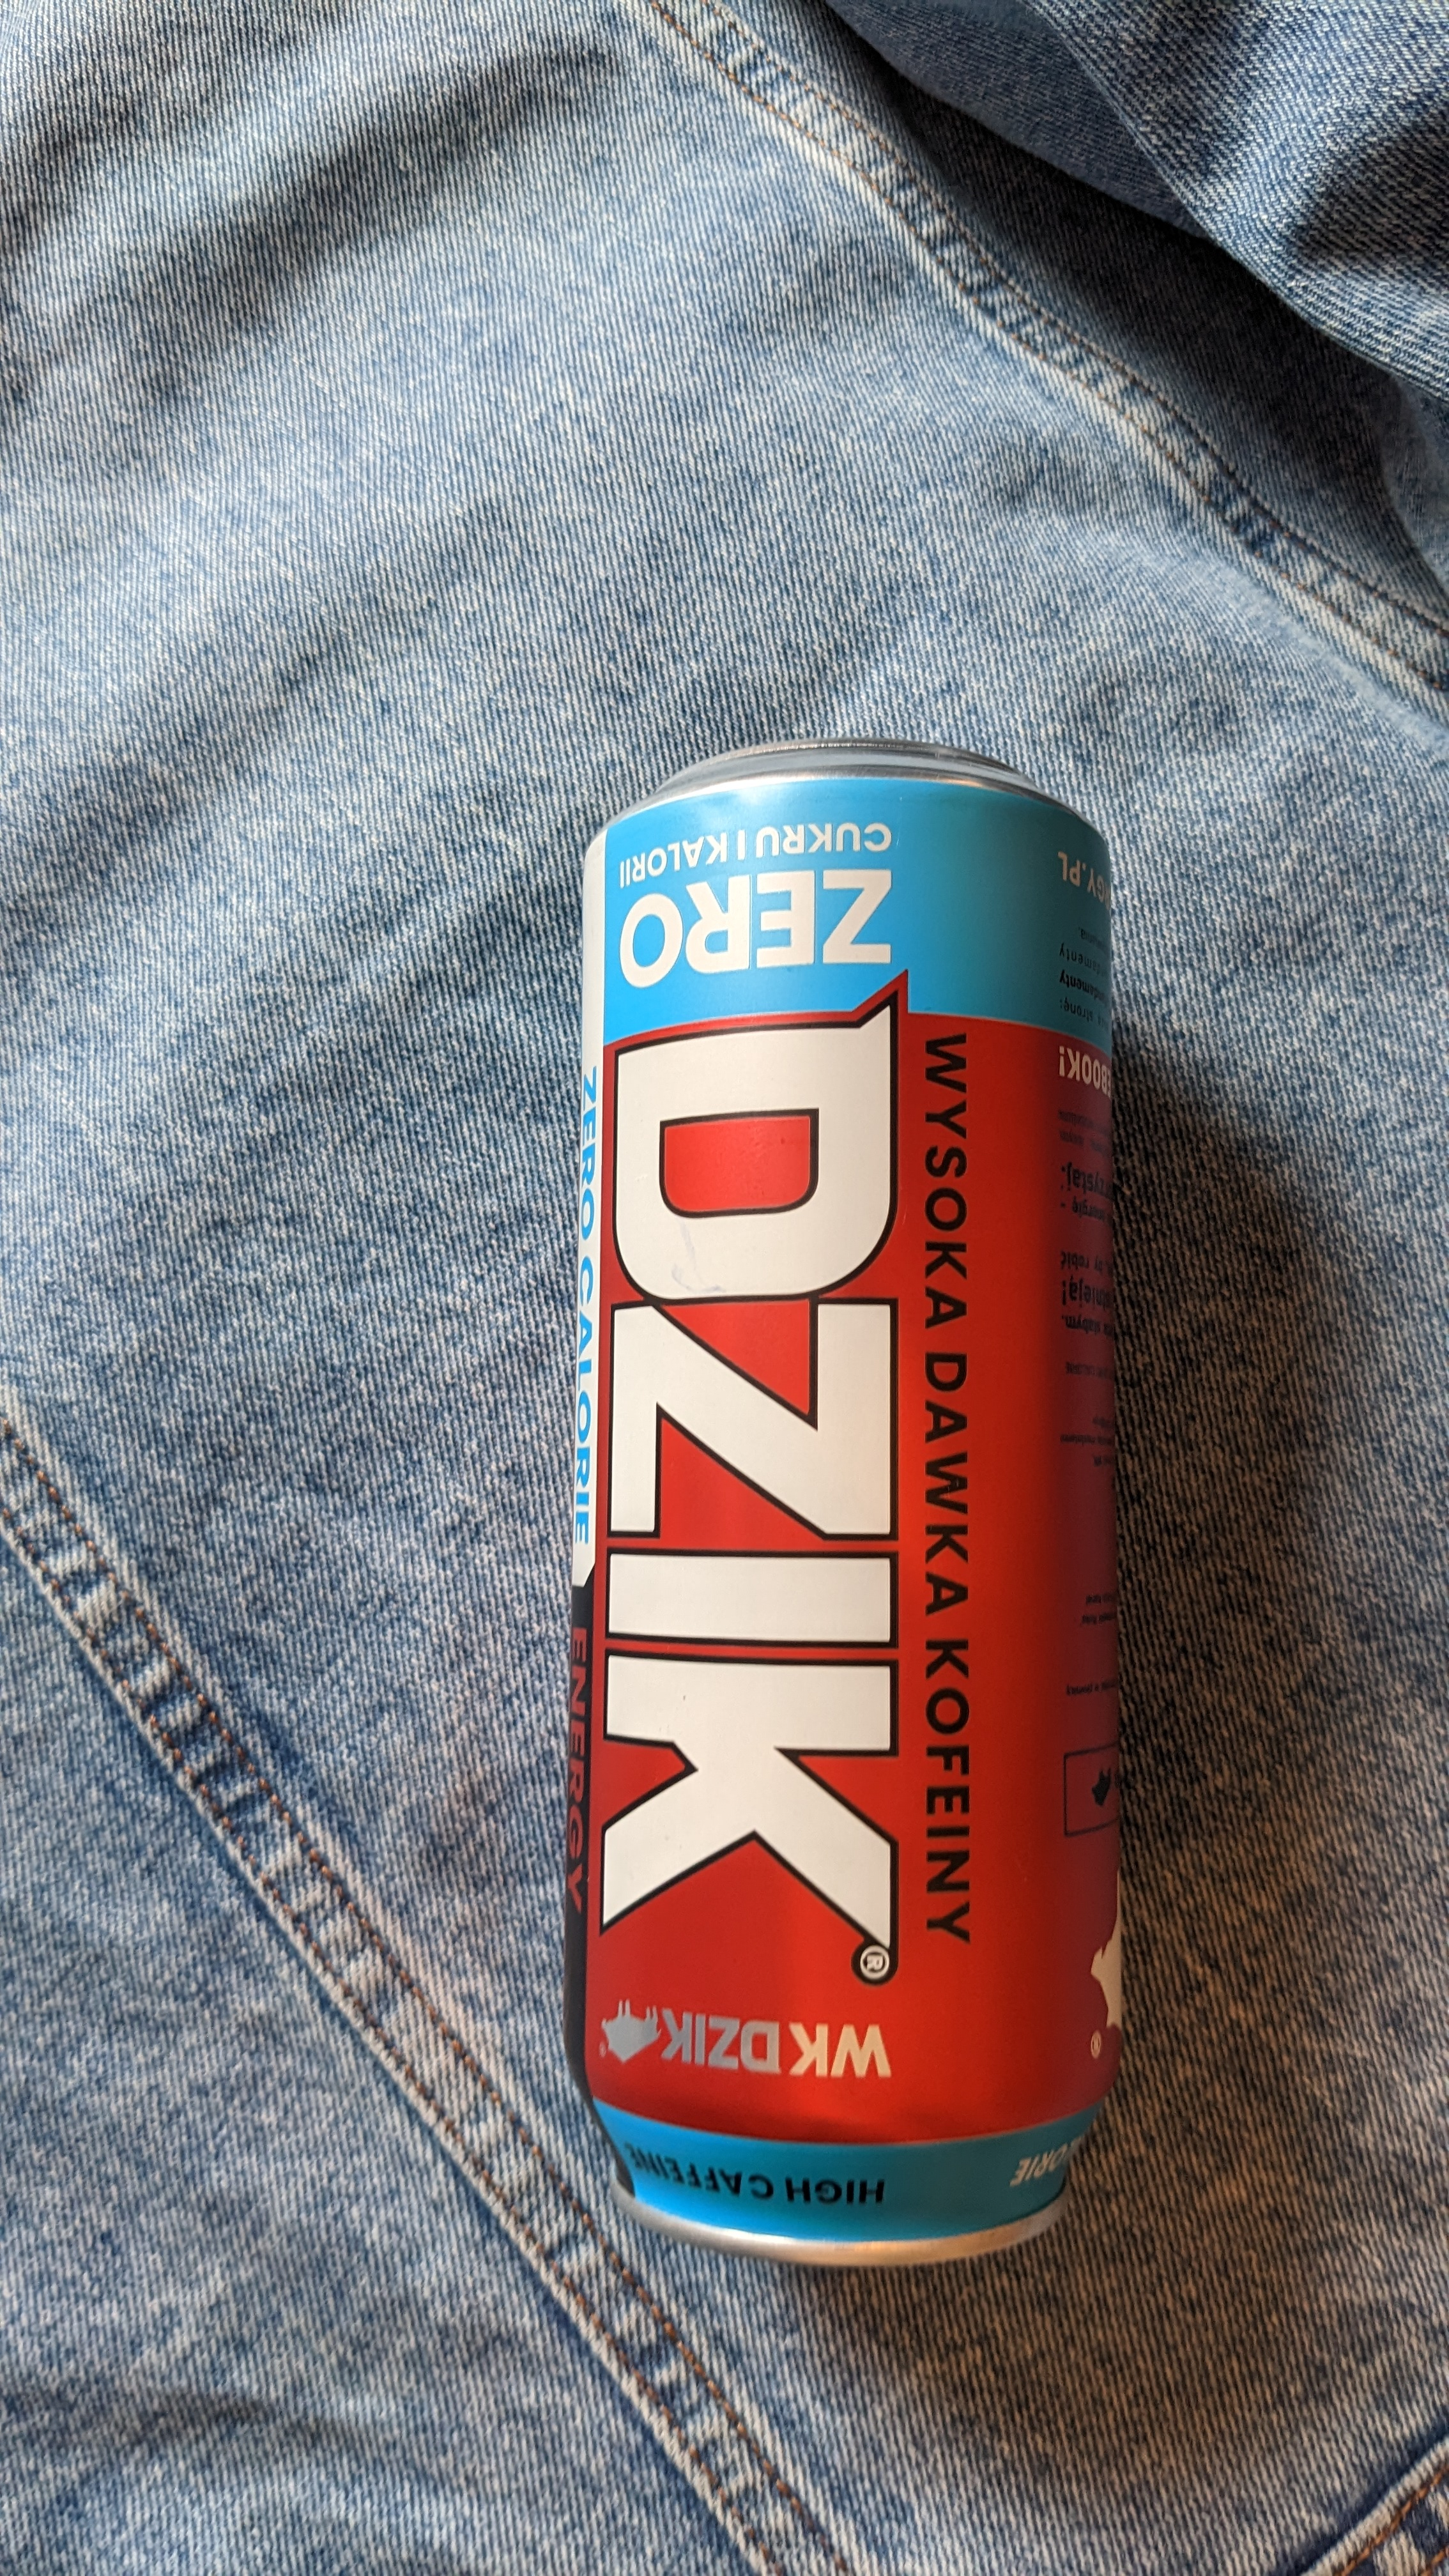dzik: (517, 745, 1164, 2288)
